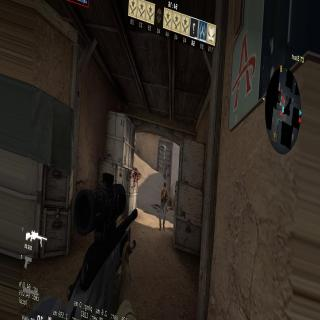T-Body: (160, 183, 169, 229)
T-Head: (163, 183, 166, 192)
